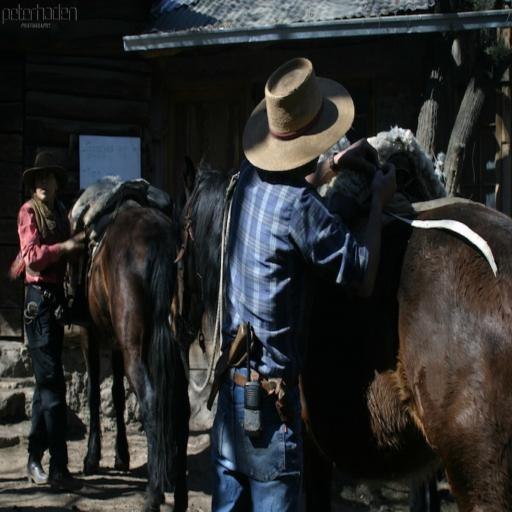horse: (166, 148, 512, 511), (58, 185, 192, 511)
